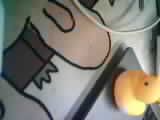duck: (104, 60, 155, 116)
